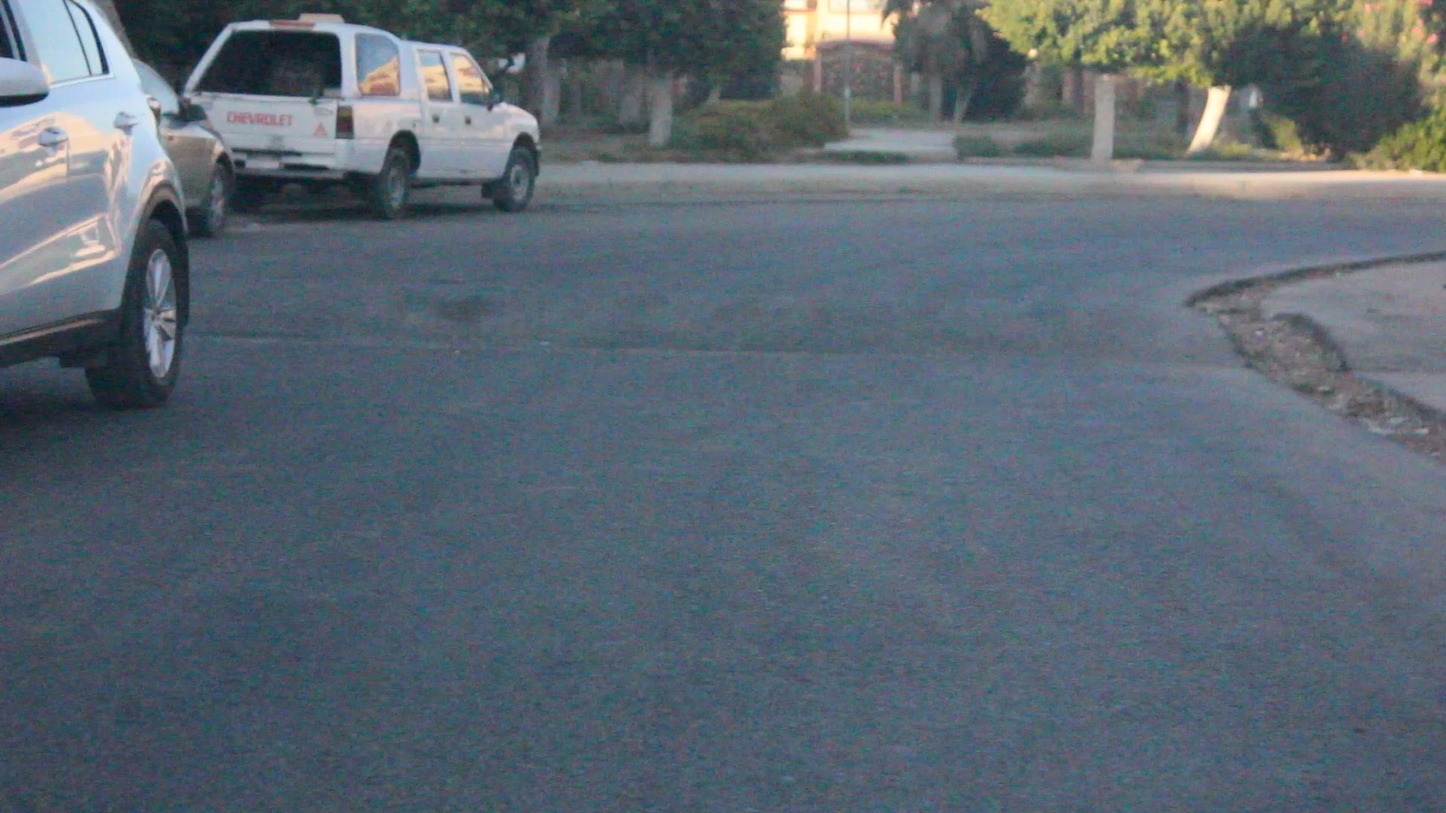Bump: (183, 237, 1241, 369)
